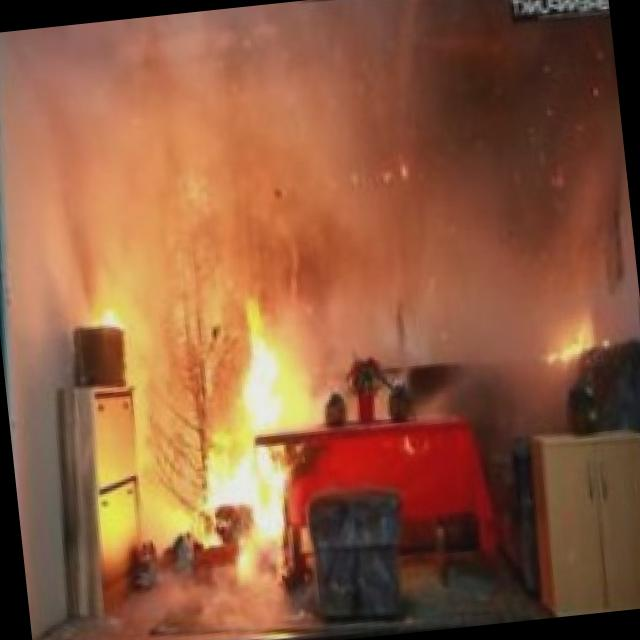fire: (89, 249, 338, 582)
